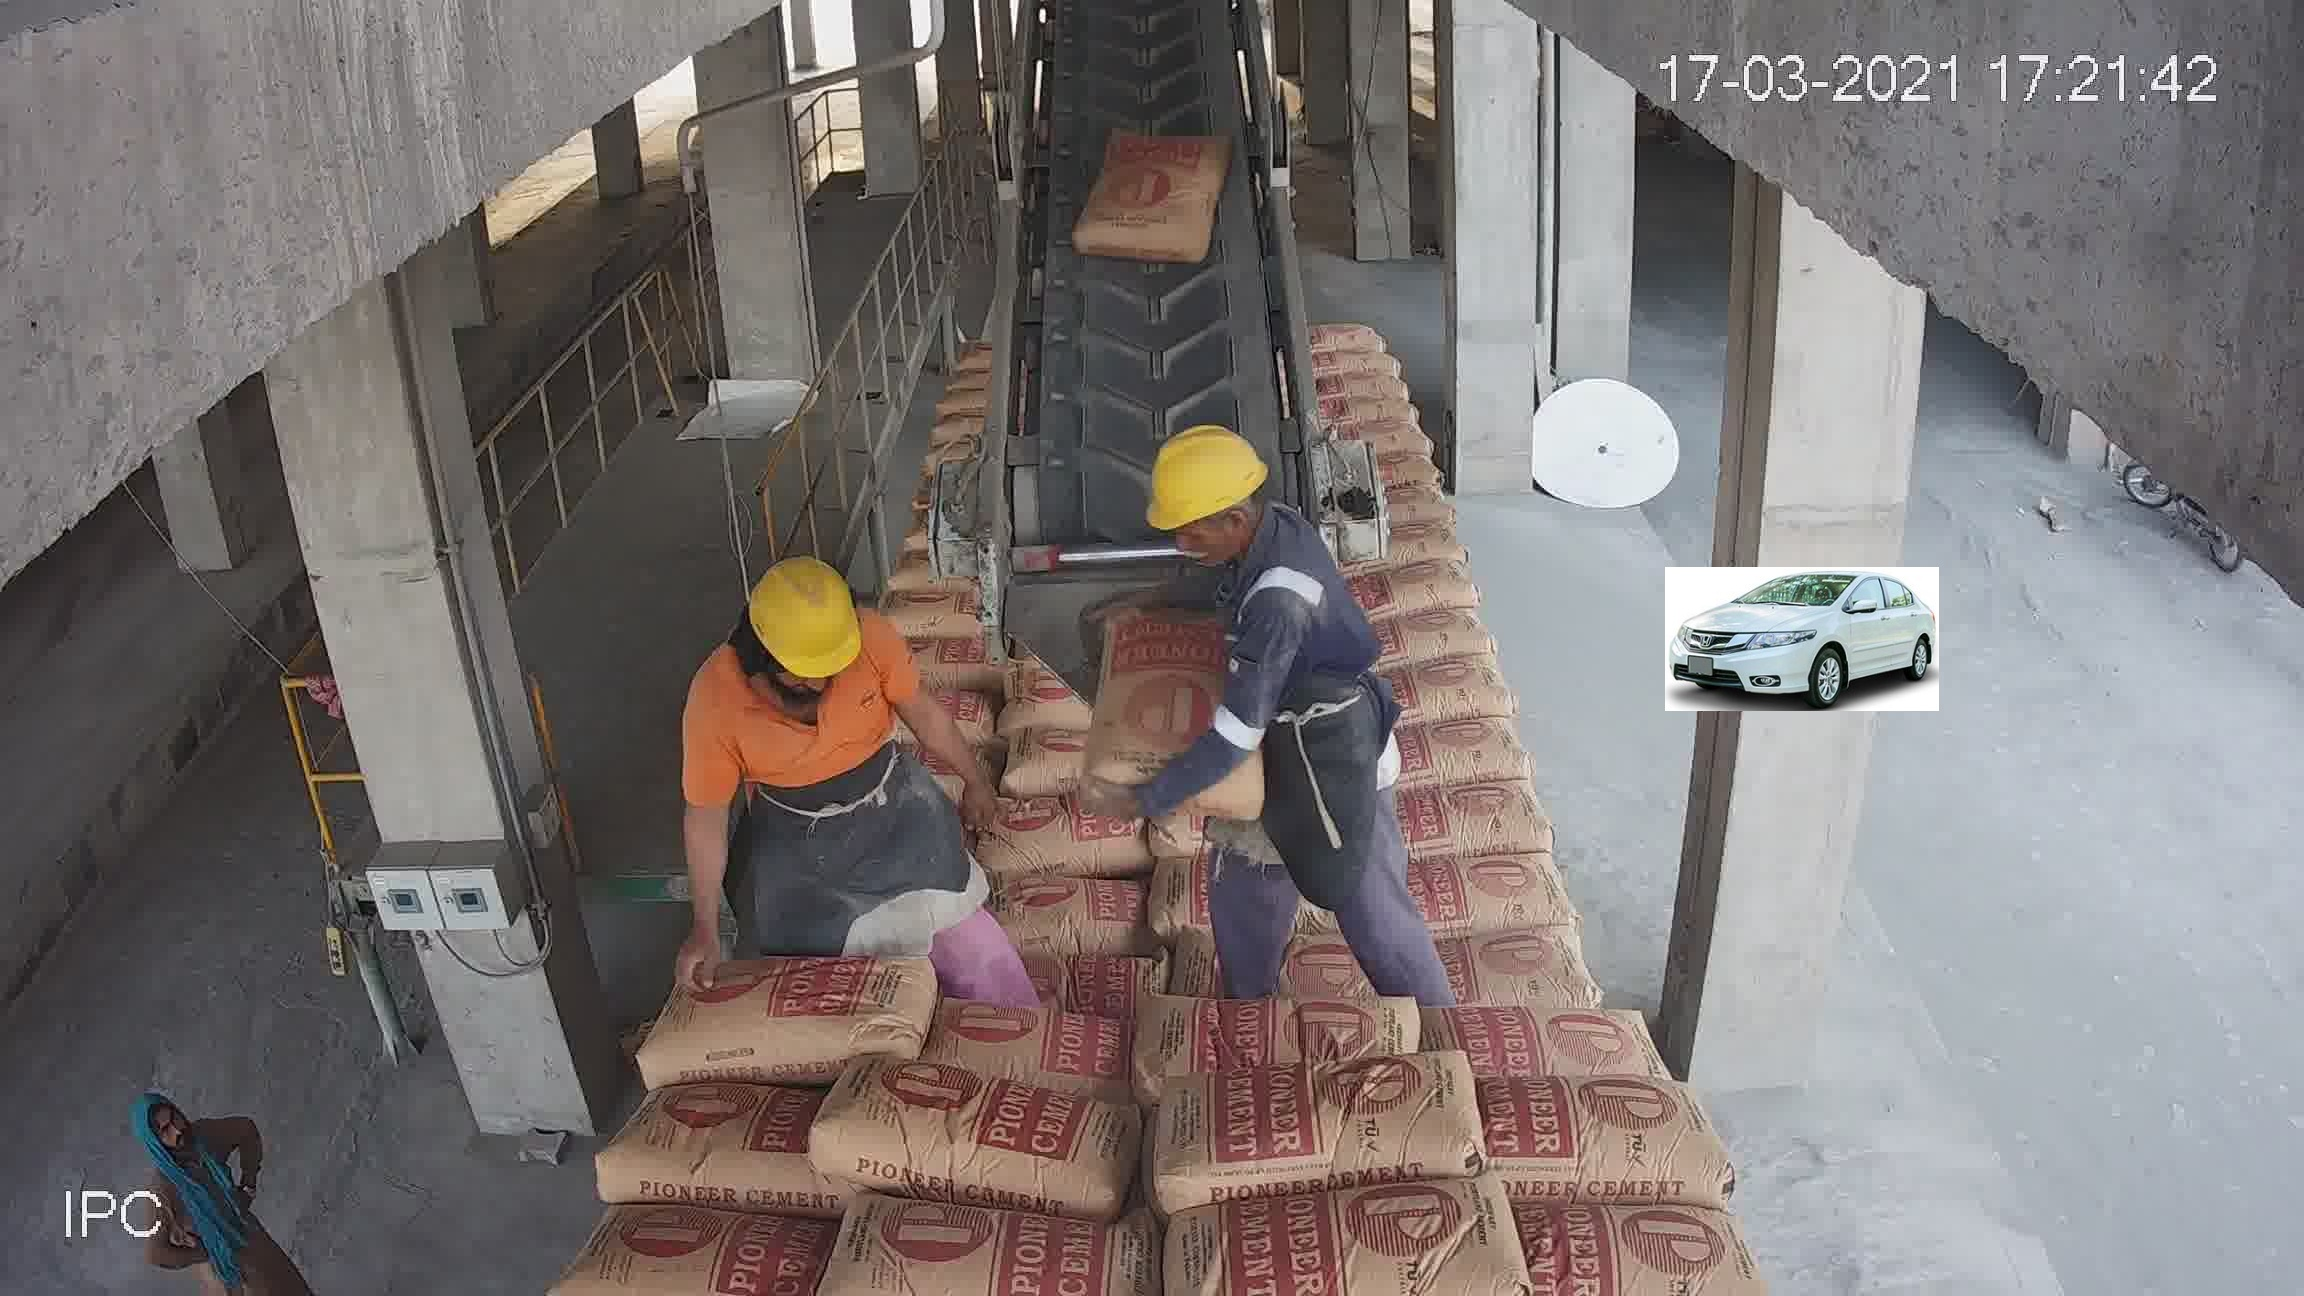bag_h: (1127, 1044, 1503, 1204), (1081, 927, 1438, 1090), (798, 1063, 1157, 1199), (1146, 1174, 1529, 1283), (1445, 1067, 1742, 1199), (813, 1188, 1166, 1296), (878, 961, 1135, 1089), (1133, 821, 1434, 930), (650, 937, 875, 1081), (1127, 725, 1404, 834), (908, 843, 1135, 970), (1416, 961, 1684, 1063), (673, 859, 919, 968), (584, 1086, 805, 1206), (1397, 853, 1630, 965), (1499, 1195, 1764, 1285), (1393, 750, 1603, 856), (722, 760, 902, 878), (910, 745, 1152, 832), (559, 1211, 817, 1291), (1165, 590, 1348, 673), (1185, 654, 1358, 731), (1180, 544, 1323, 631), (1025, 616, 1176, 687), (1013, 673, 1171, 736), (1192, 514, 1329, 579), (1021, 714, 1166, 767), (1027, 581, 1171, 635), (915, 464, 1017, 522), (1030, 555, 1169, 590), (916, 513, 1032, 548)
belt: (1027, 25, 1288, 495)
